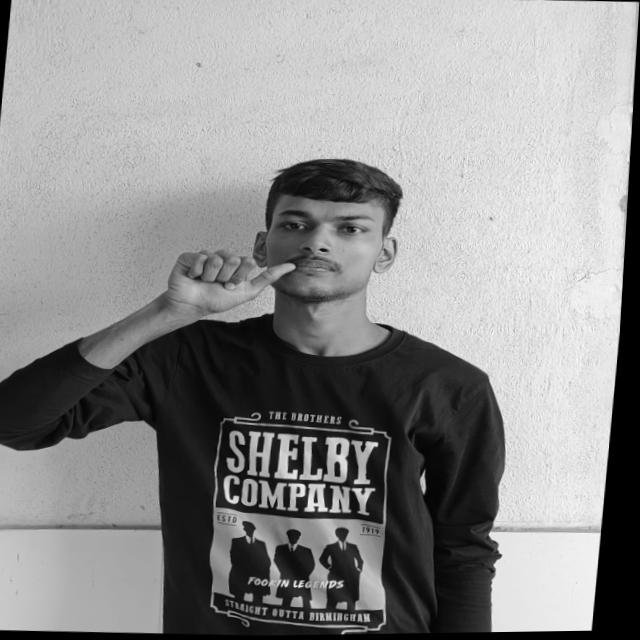Drink: (160, 246, 310, 319)
